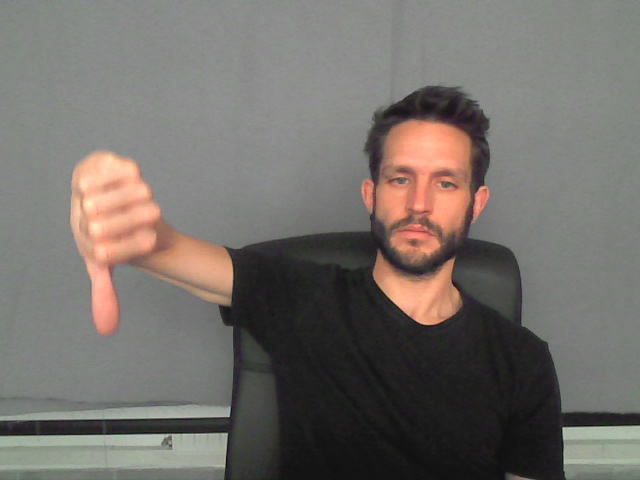thumbsdown: (70, 150, 161, 336)
